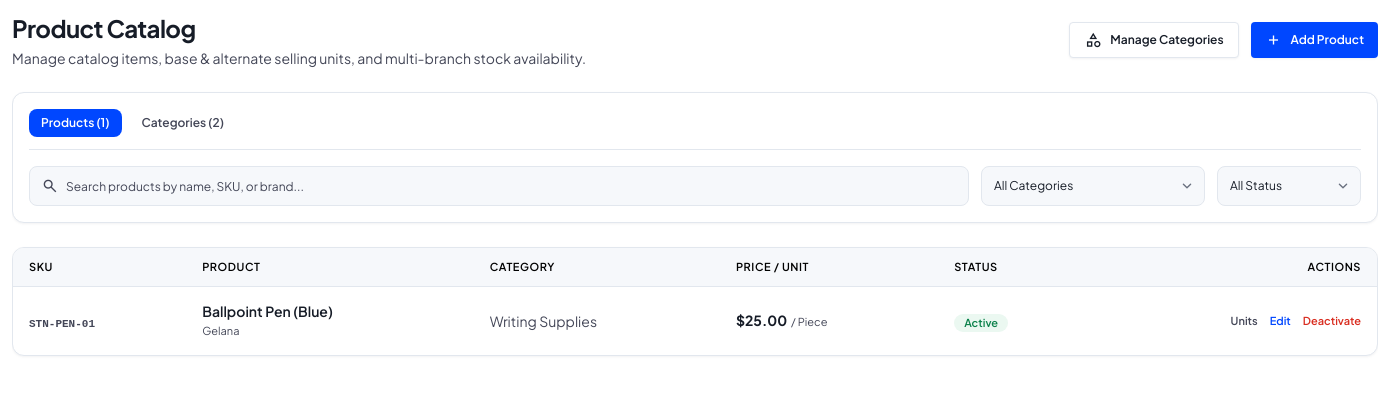
Scenario: Catalog Component - Product and Category Search › switches to Categories view and renders category search control
The width and height of the screenshot is (1390, 404).
Click the button "Categories (2)" at (183, 123), box x1=130 y1=109 x2=236 y2=137
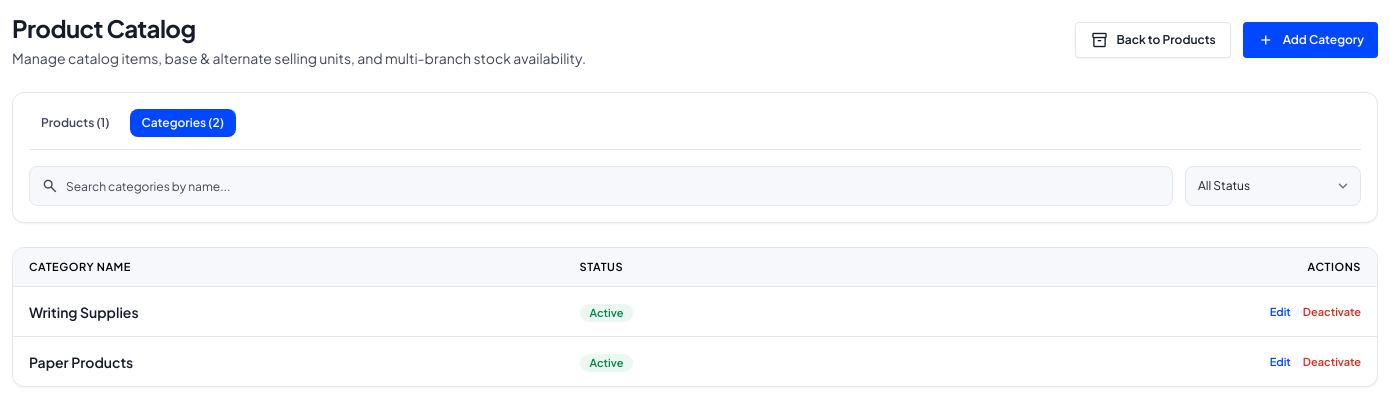
Now the field with placeholder "Search categories by name..." is shown, box x1=29 y1=166 x2=1173 y2=206
Now the text "Writing Supplies" is shown, box x1=13 y1=286 x2=564 y2=336
Now the text "Paper Products" is shown, box x1=13 y1=336 x2=564 y2=386
